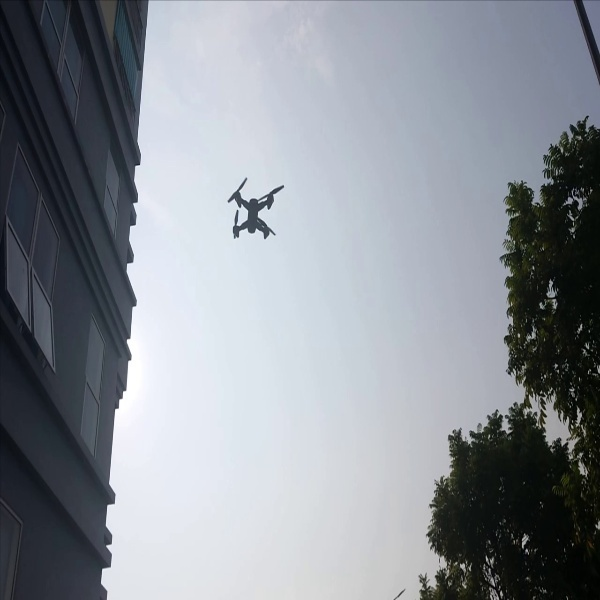drone: (219, 171, 288, 249)
